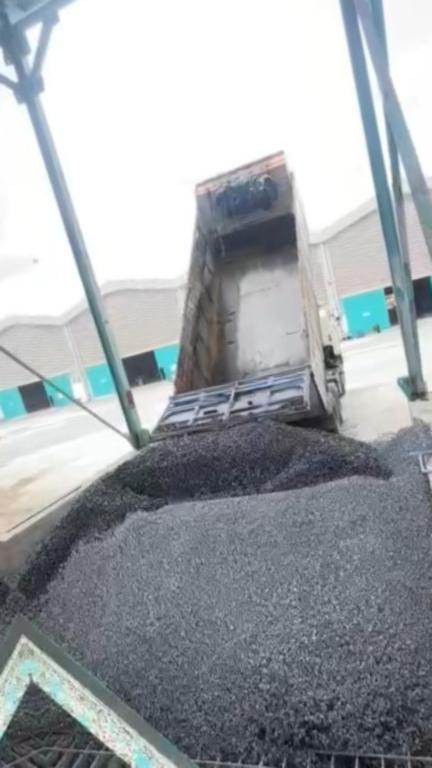gravel: (17, 417, 432, 761), (19, 421, 390, 600), (33, 683, 111, 751)
sand: (0, 476, 36, 533)
